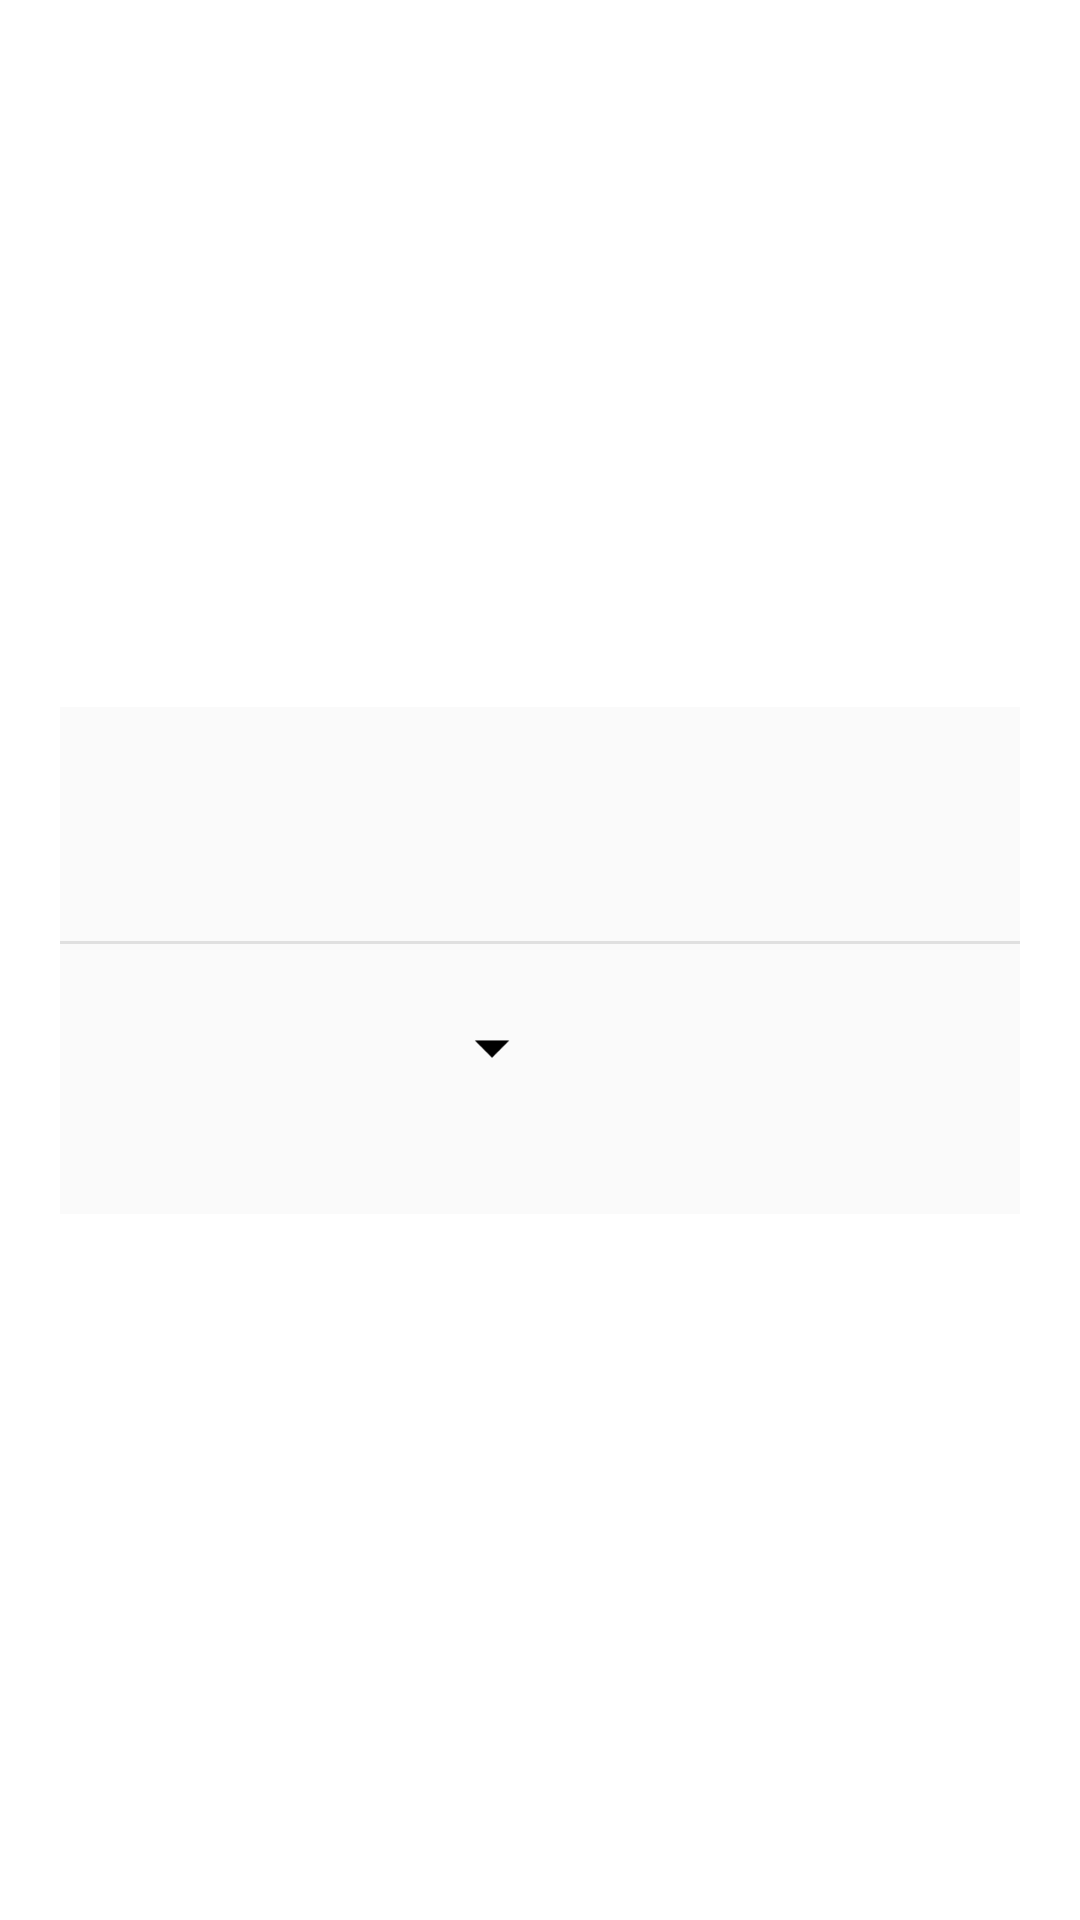

Icon bounding boxes for this 1080 x 1920 phone screenshot, format (x1, y1, x2, y2):
arrow drop down: (475, 1040, 509, 1058)
